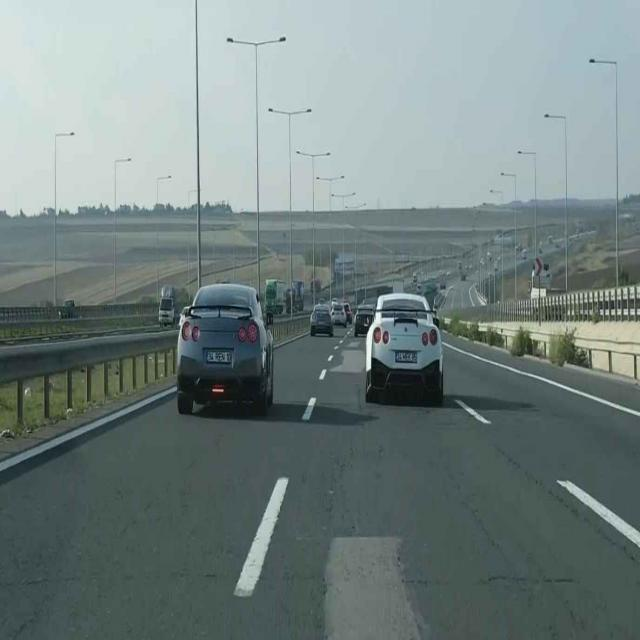plate: (206, 351, 232, 365), (395, 352, 417, 364)
